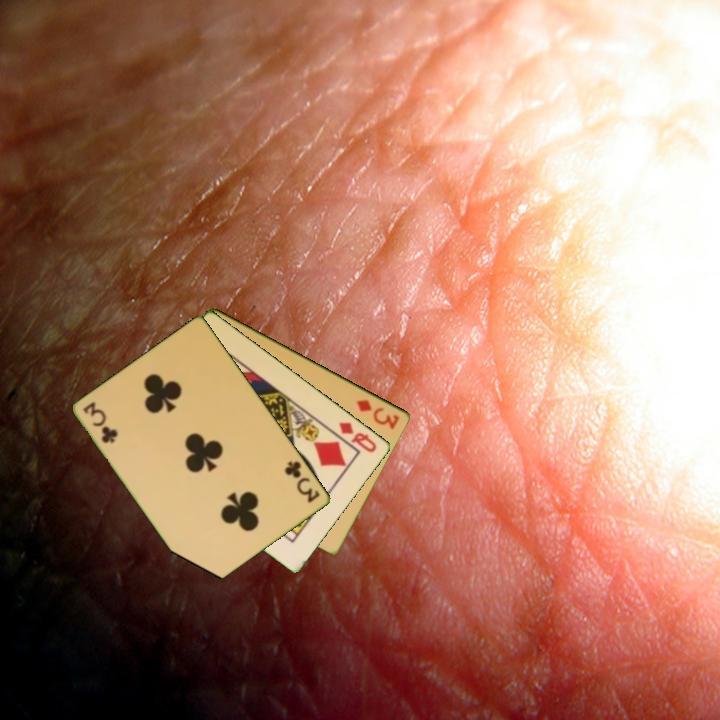3c: (281, 457, 323, 506), (80, 398, 121, 446)
3d: (353, 396, 403, 432)
Qd: (335, 418, 380, 455)
